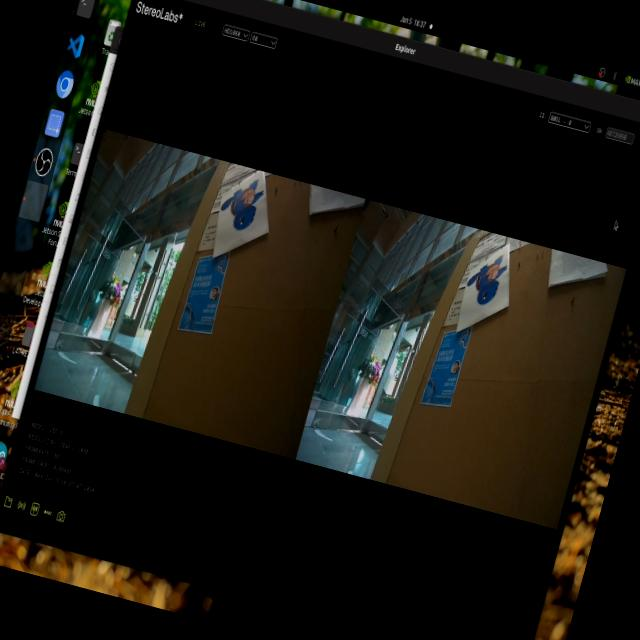blue: (206, 165, 276, 243), (456, 246, 520, 322)
